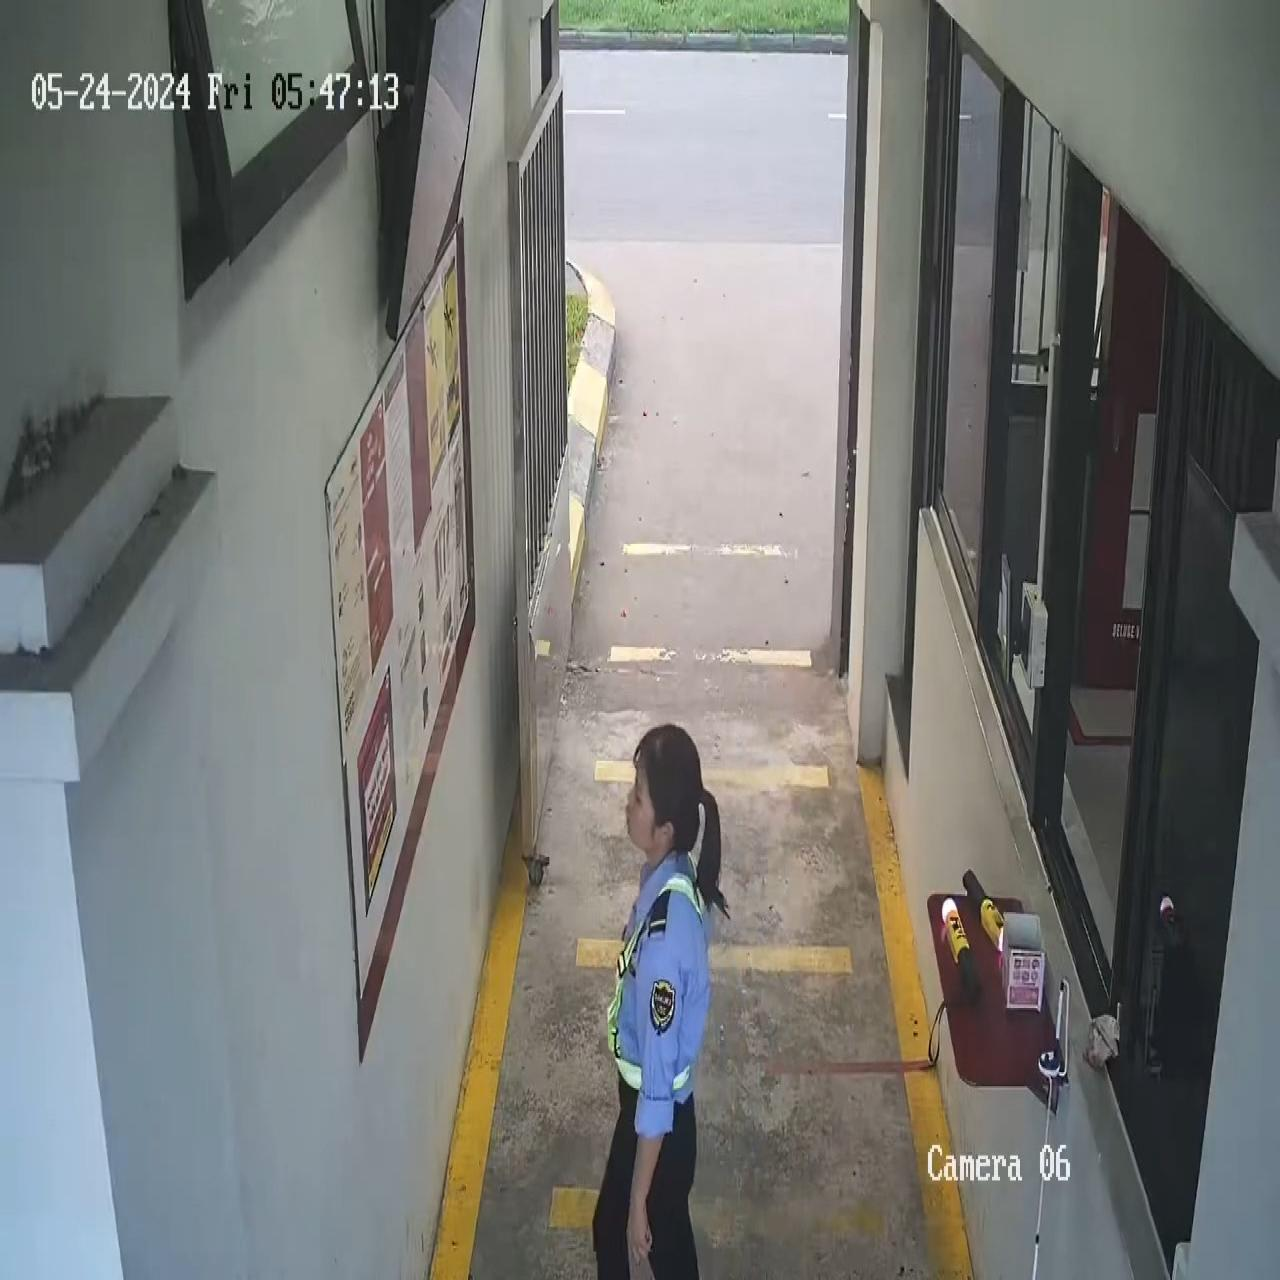breathalyzer: (955, 866, 1010, 952), (939, 887, 978, 999)
guard: (588, 720, 728, 1276)
